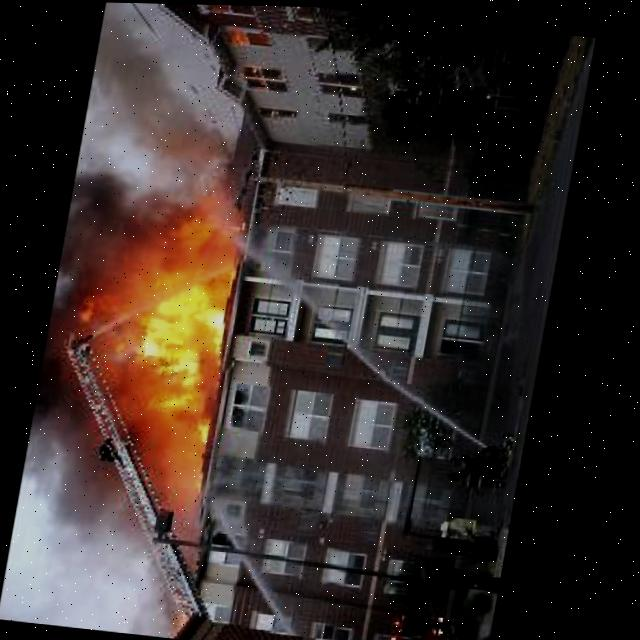Fire: (51, 181, 256, 458)
Smoke: (83, 31, 249, 184)
